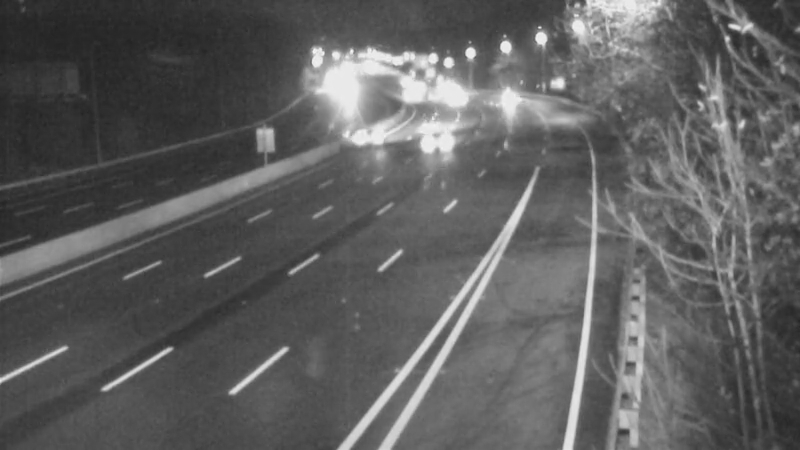vehicle: (384, 67, 434, 117), (408, 75, 458, 125), (430, 73, 480, 123), (493, 70, 543, 120), (402, 99, 452, 149), (415, 119, 465, 169), (350, 109, 400, 159)
